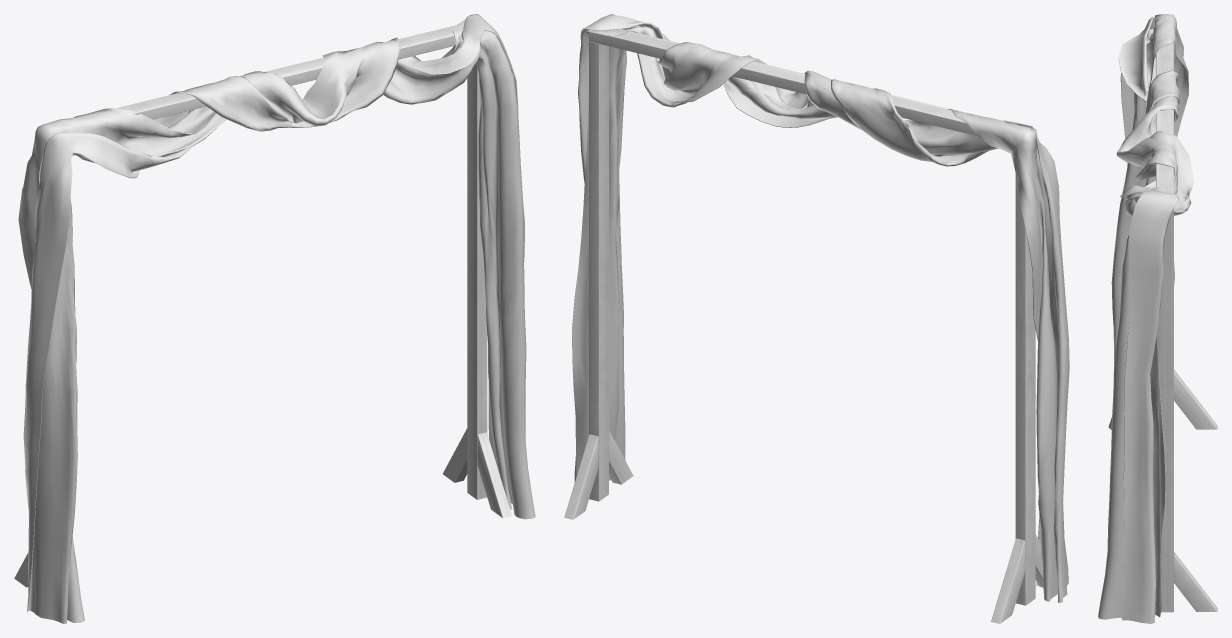
File: EventArch01Cloth02.FBX
3 renders of one model, left to right at view 1: azimuth 30°, elevation 25°; view 2: azimuth 150°, elevation 25°; view 3: azimuth 270°, elevation 25°, orthographic. The views are drawn at different scales.
Parts seen in each view (by area): view 1: EventArch01Cloth02; view 2: EventArch01Cloth02; view 3: EventArch01Cloth02.
Boxes of the visible parts, bbox=[...] form: EventArch01Cloth02: bbox=[14, 14, 535, 623]; EventArch01Cloth02: bbox=[564, 14, 1069, 623]; EventArch01Cloth02: bbox=[1098, 14, 1217, 623].
Size of what is drawn, in the model's own units: 2.8 by 2.59 by 0.6784.
